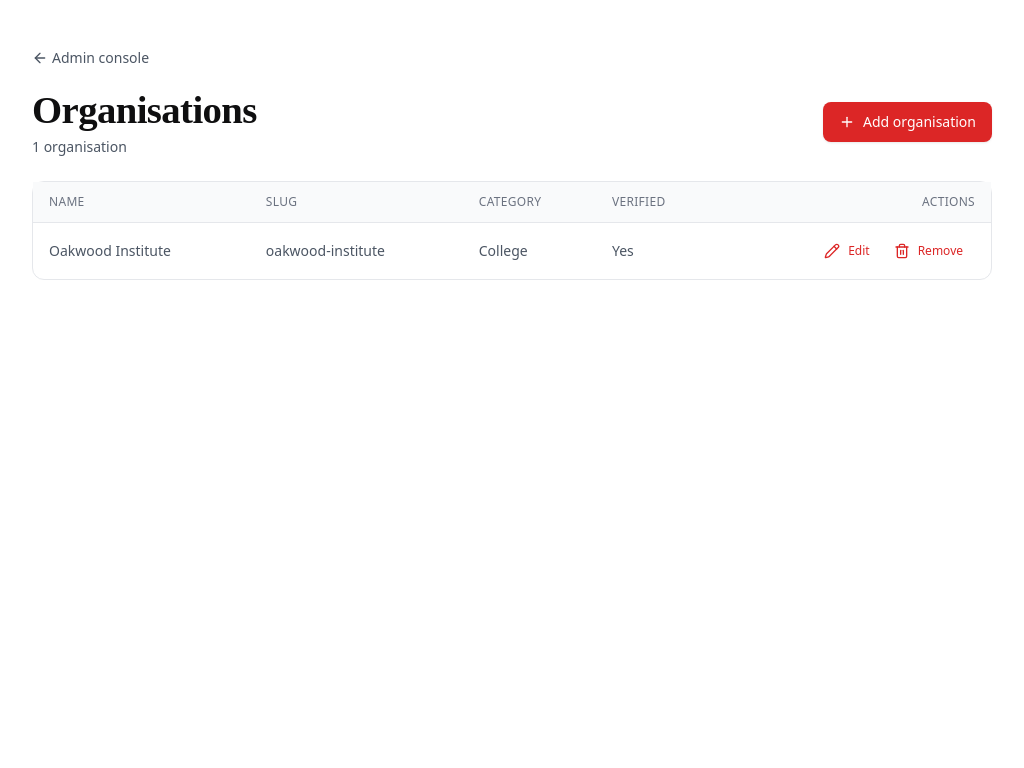
Test: <AdminOrganisationsPage> › creates a new organisation via the modal and appends it to the table
The width and height of the screenshot is (1024, 768).
Click the button "Add organisation" at (908, 122), box [823, 102, 992, 142]
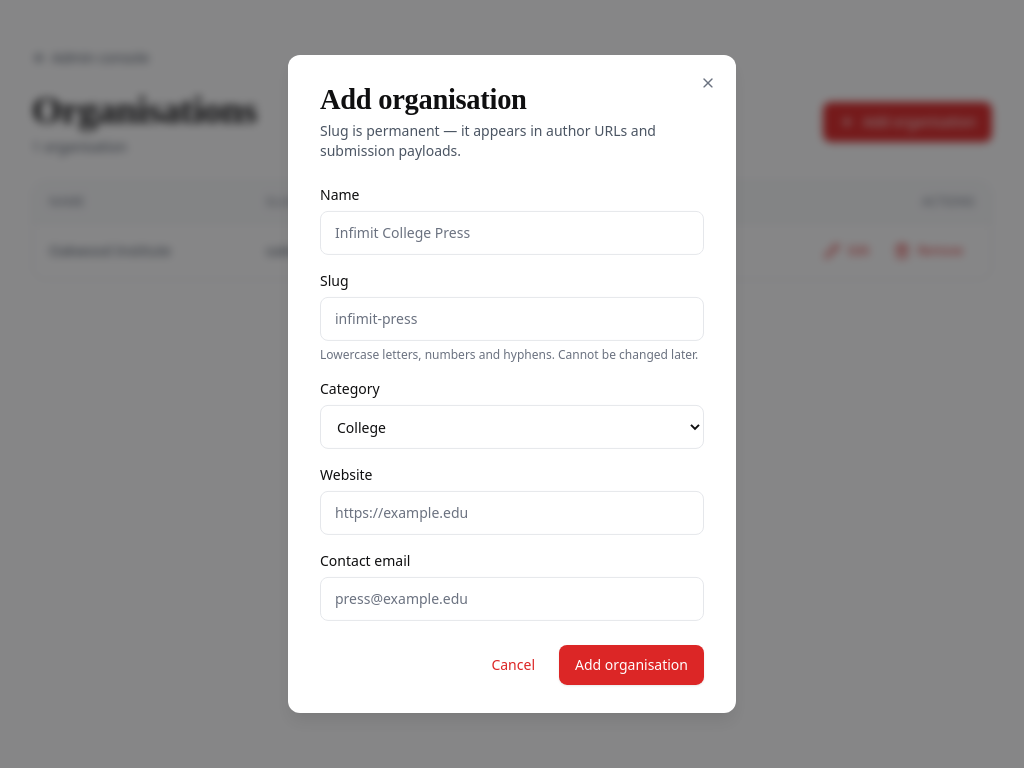
Type "New Press" into the field labelled "Name" at (512, 233), box [335, 223, 689, 243]
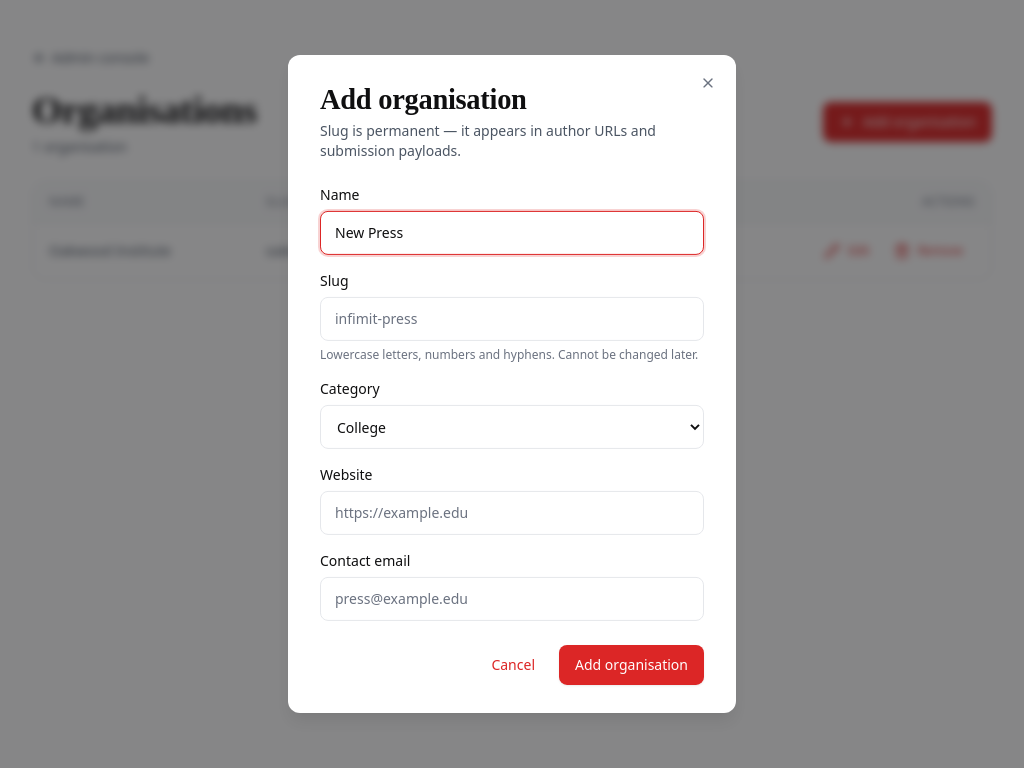
Type "new-press" into the field labelled "Slug" at (512, 319), box [335, 309, 689, 329]
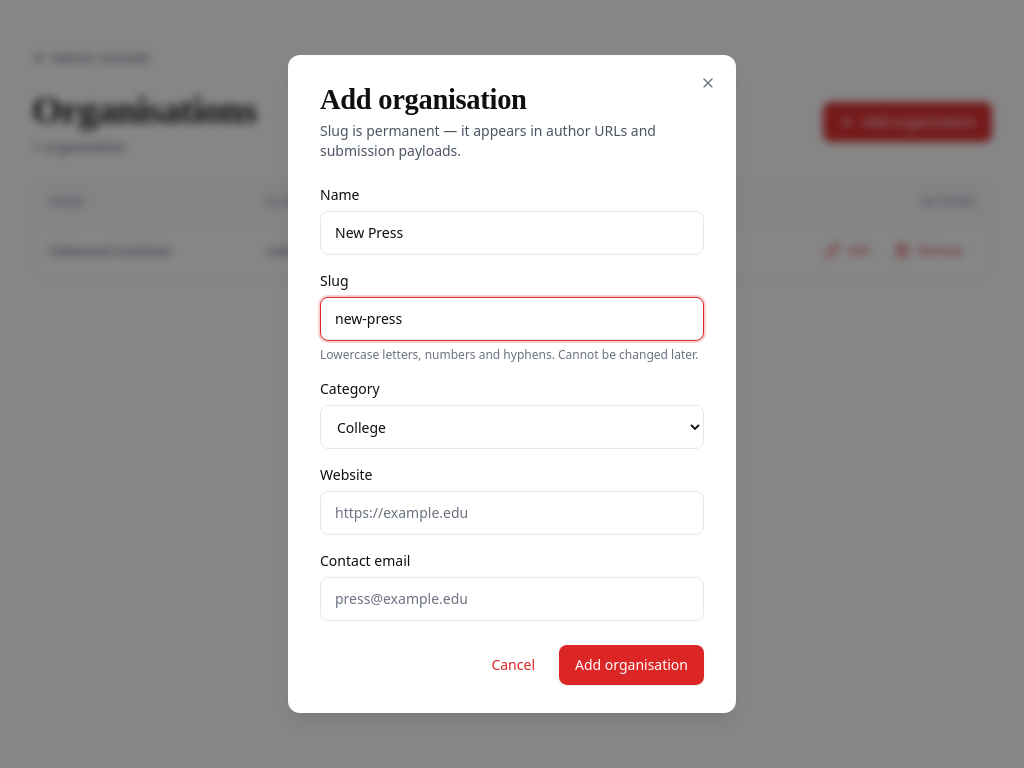
Click the button "Add organisation" at (632, 665), box [559, 645, 704, 685]
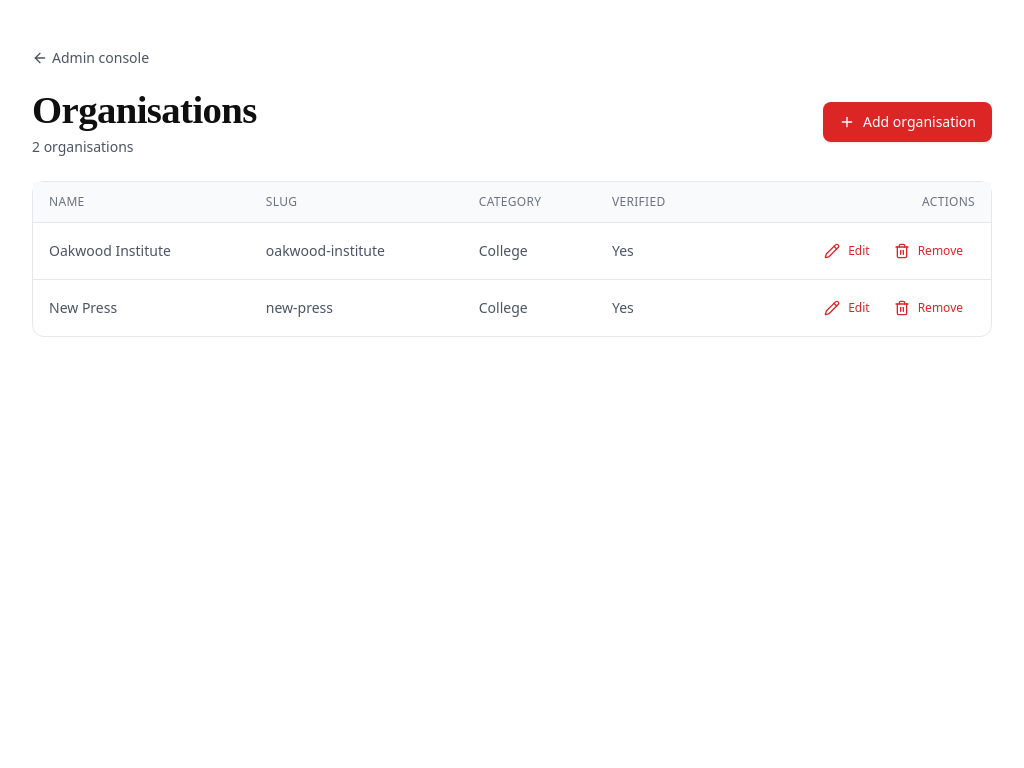
Expected: the text "New Press" is shown, [33, 279, 250, 336]
